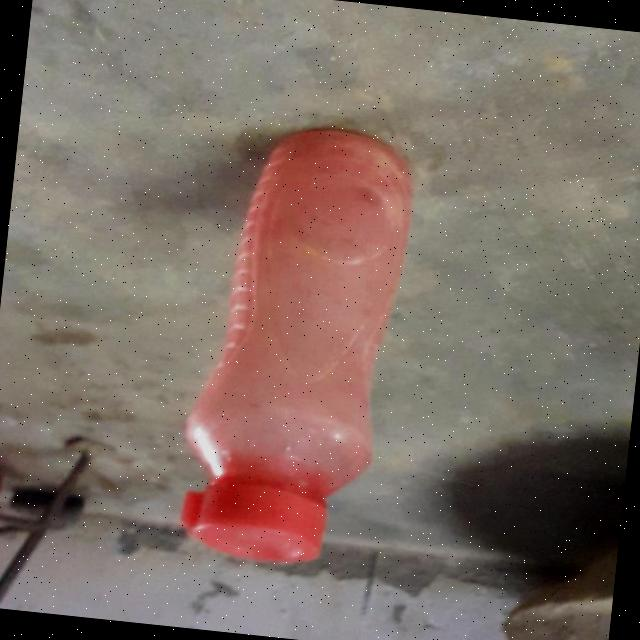bottle: (170, 112, 428, 580)
cap: (184, 482, 356, 566)
